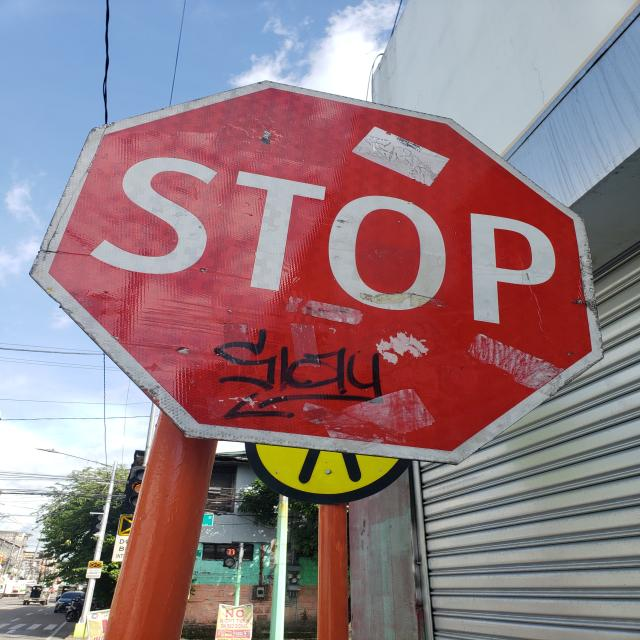stop-sign: (28, 78, 604, 465)
